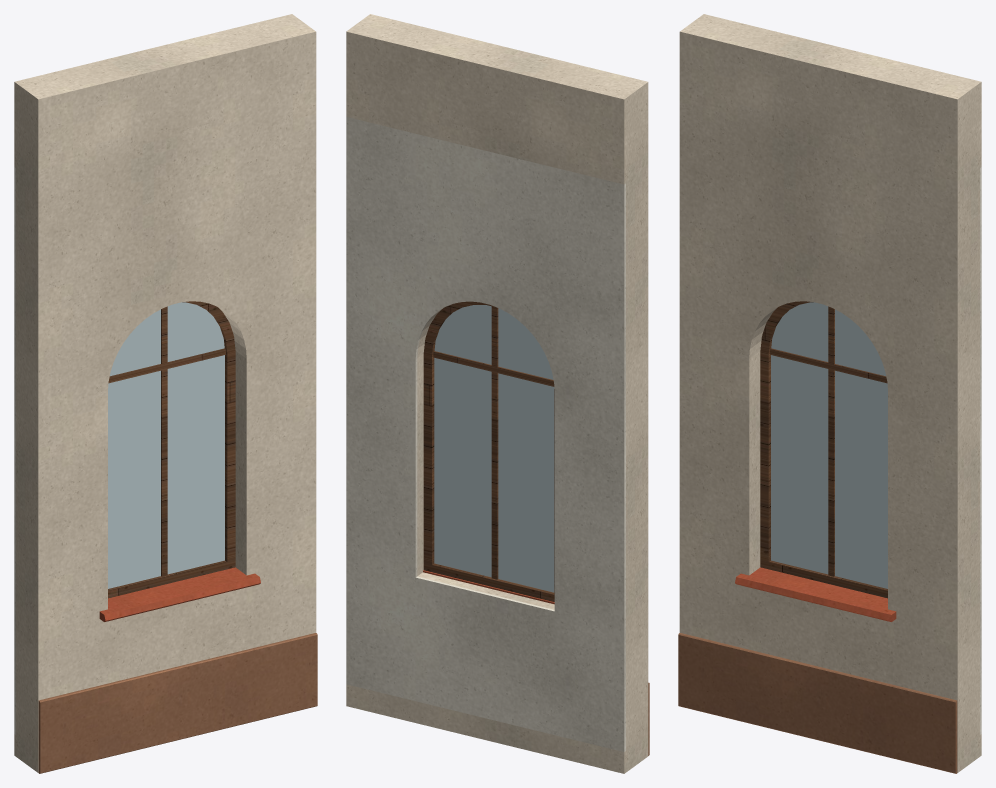
The model's file is m_wall_window.glb.
3 views of the same model, side by side, from view 1: azimuth 30°, elevation 25°; view 2: azimuth 150°, elevation 25°; view 3: azimuth 330°, elevation 25° (orthographic).
Parts seen in each view (by area): view 1: m_wall_window_render, m_wall_window_glass, m_wall_window_plinth, m_wall_window_wood, m_wall_window_tile_clay, m_wall_window_plaster; view 2: m_wall_window_plaster, m_wall_window_render, m_wall_window_glass, m_wall_window_wood; view 3: m_wall_window_render, m_wall_window_glass, m_wall_window_plinth, m_wall_window_wood, m_wall_window_tile_clay, m_wall_window_plaster.
Boxes of the visible parts, <box> form: m_wall_window_render: <box>14,14,316,772</box>; m_wall_window_glass: <box>108,302,224,588</box>; m_wall_window_plinth: <box>38,633,317,773</box>; m_wall_window_wood: <box>108,301,235,598</box>; m_wall_window_tile_clay: <box>99,567,260,621</box>; m_wall_window_plaster: <box>14,167,15,734</box>; m_wall_window_plaster: <box>346,117,625,751</box>; m_wall_window_render: <box>346,14,648,773</box>; m_wall_window_glass: <box>434,305,554,592</box>; m_wall_window_wood: <box>423,301,554,601</box>; m_wall_window_render: <box>679,14,981,772</box>; m_wall_window_glass: <box>771,302,887,588</box>; m_wall_window_plinth: <box>678,633,957,773</box>; m_wall_window_wood: <box>760,301,887,598</box>; m_wall_window_tile_clay: <box>735,567,896,621</box>; m_wall_window_plaster: <box>980,167,981,734</box>.
Bounding box in the file's own units: 2 × 4.64 × 0.375.
6 materials, 5 textured.
